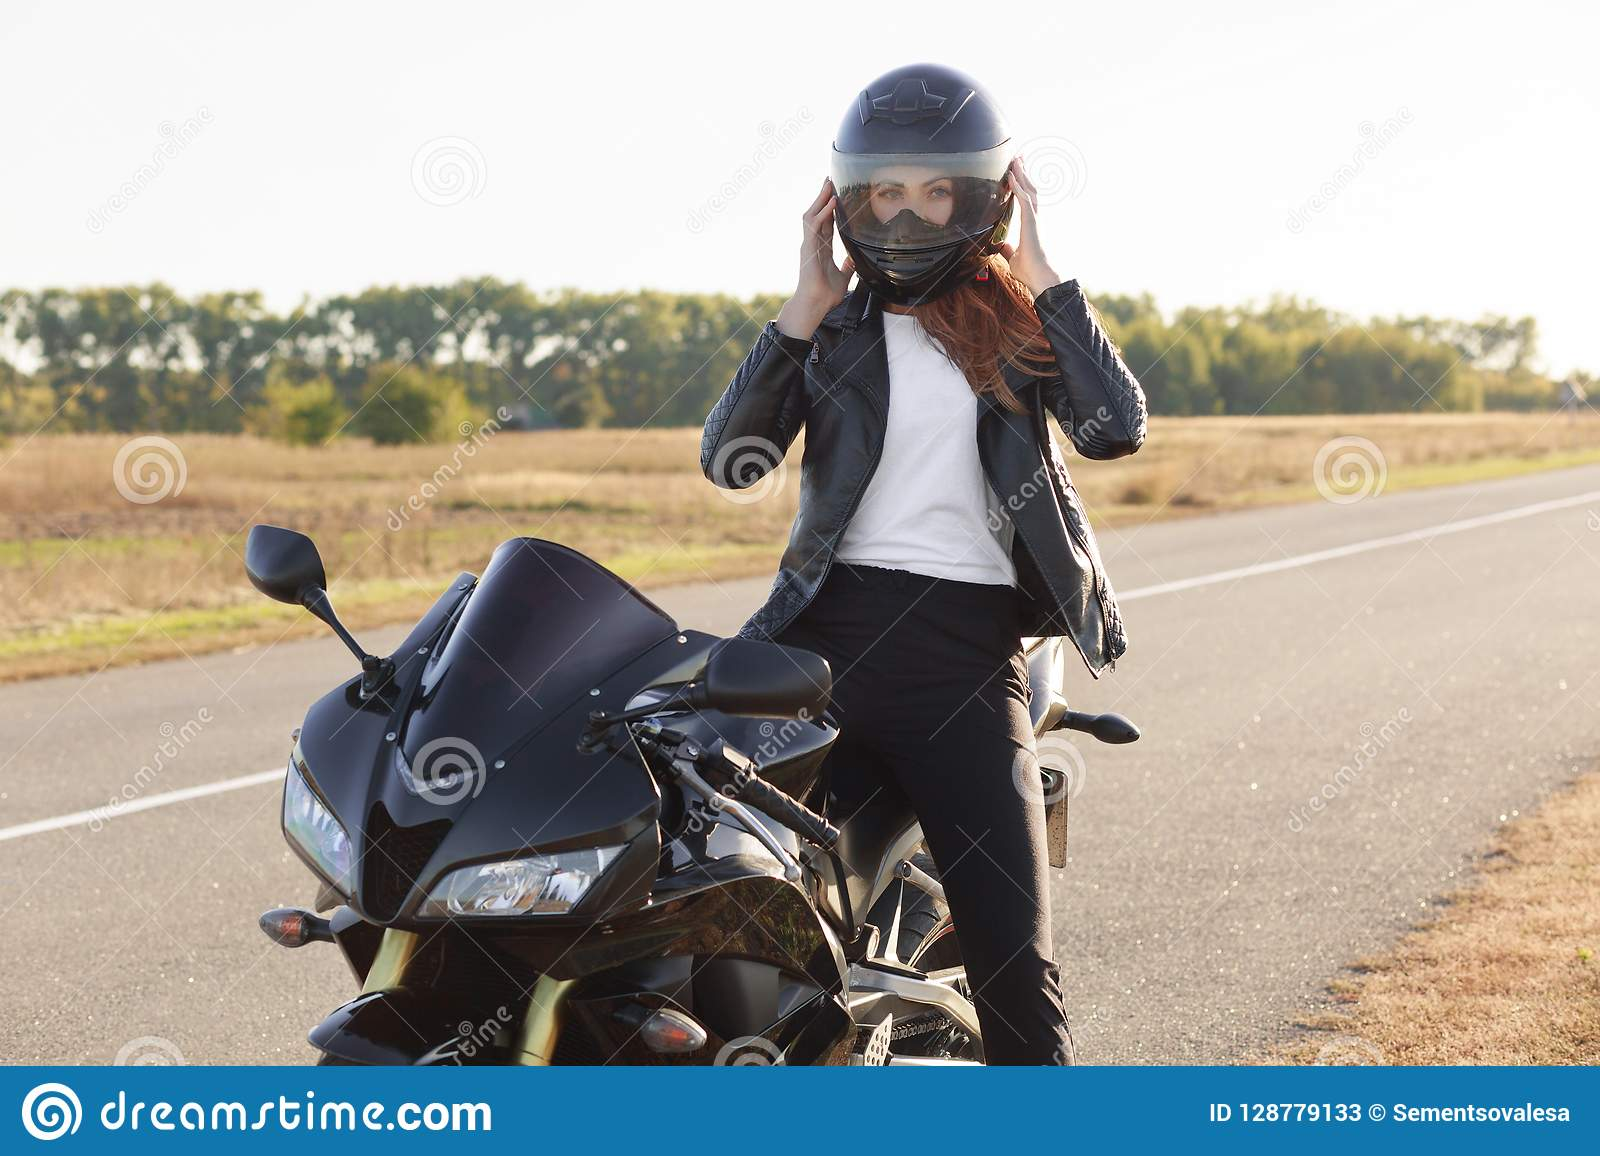helmet: (812, 60, 1024, 309)
